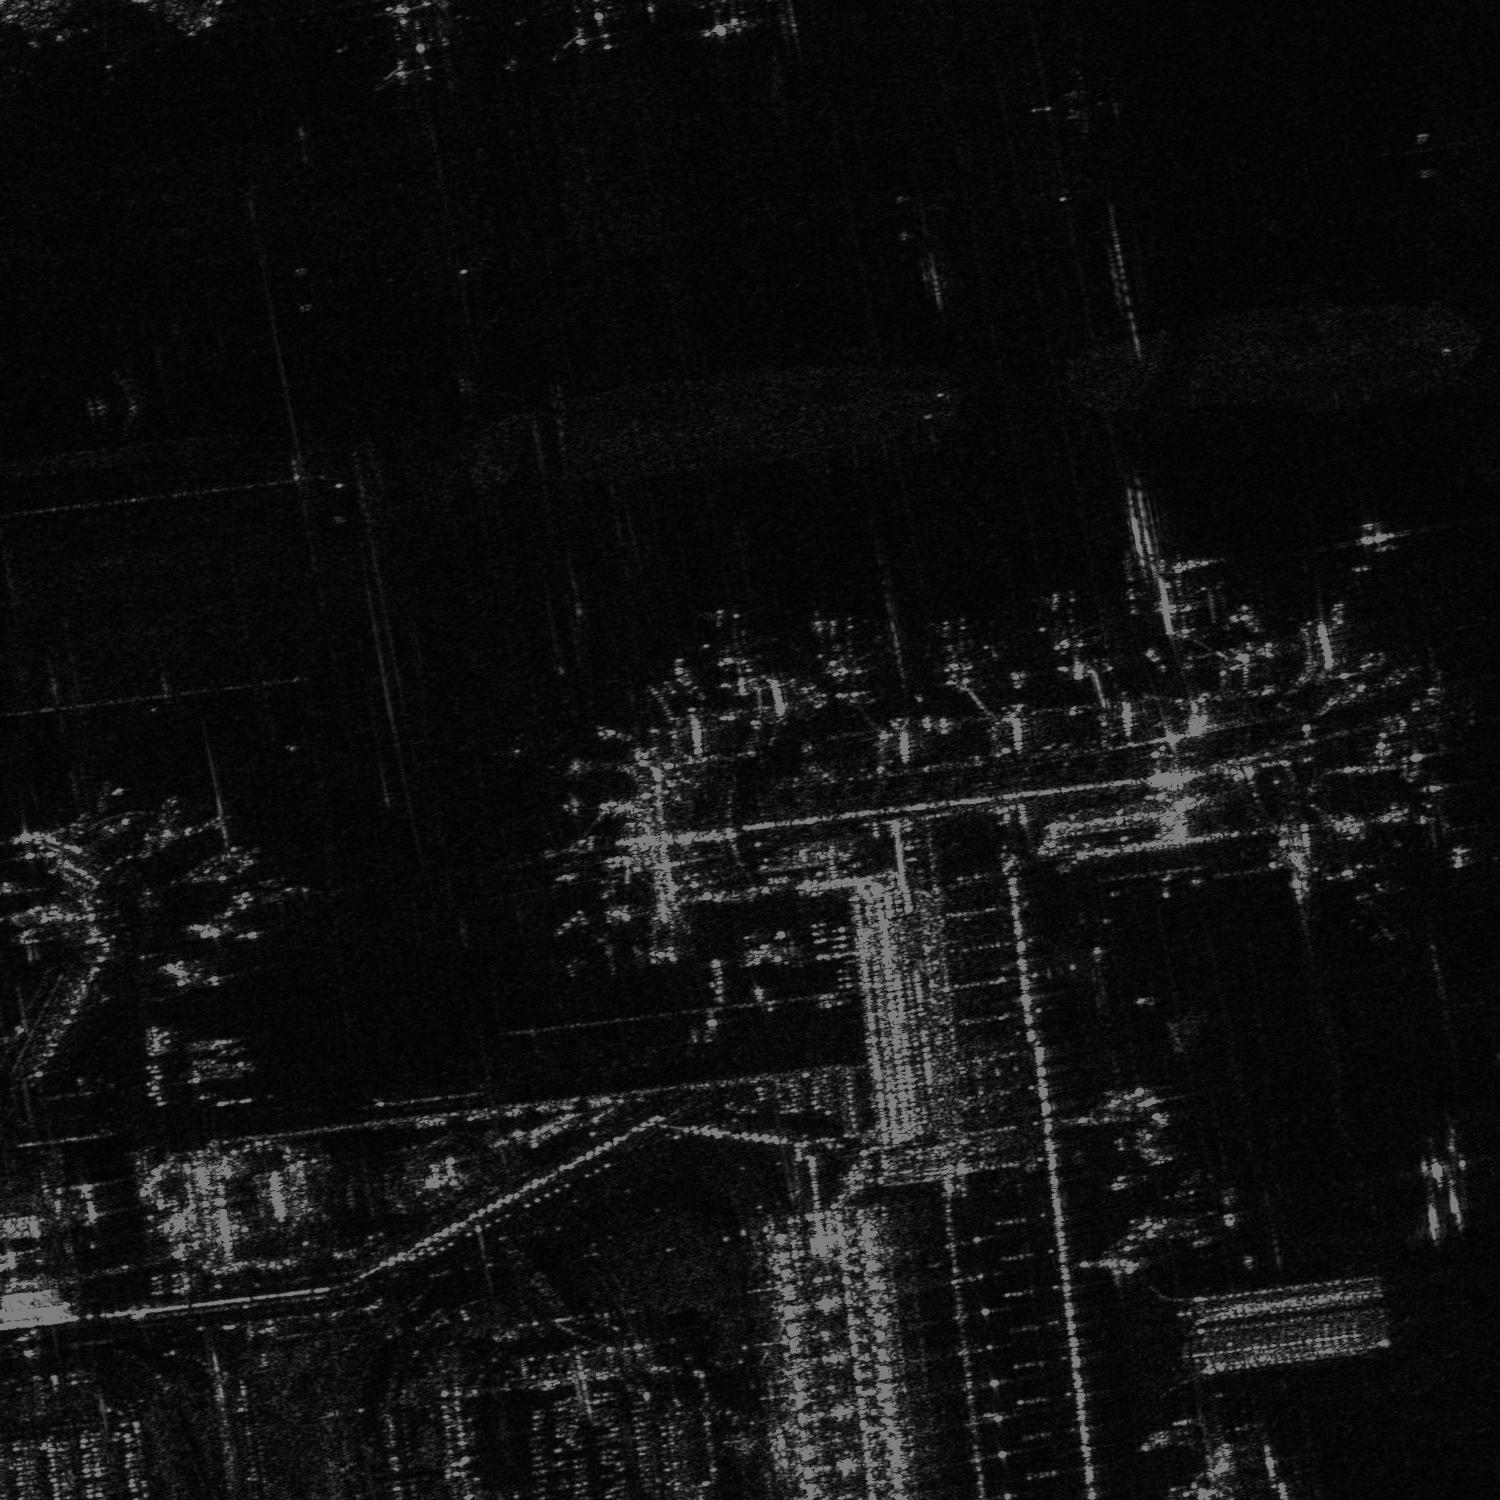A220: (692, 609, 777, 690), (918, 611, 999, 688), (1027, 587, 1099, 659), (805, 615, 874, 687)
Boeing737: (560, 924, 620, 979)
